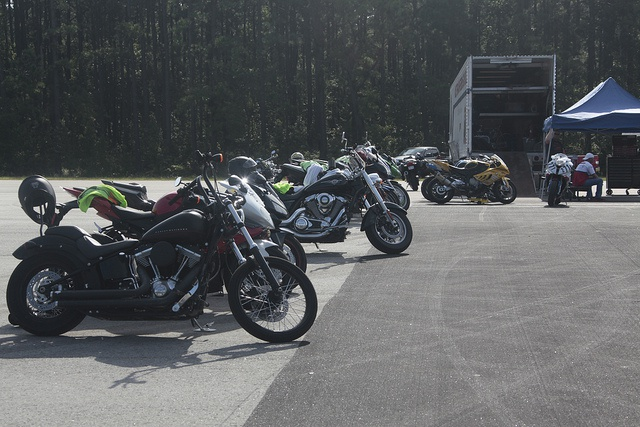non-vehicle: (4, 149, 317, 344), (54, 155, 304, 268), (281, 133, 408, 255), (276, 162, 412, 212), (426, 152, 517, 204), (420, 152, 490, 200), (541, 152, 577, 207), (395, 162, 418, 191)
